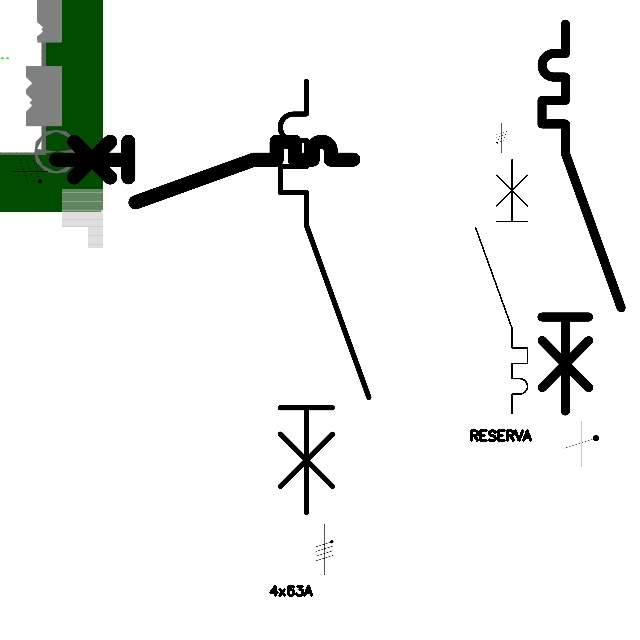interruptor_termomagnetico: (269, 70, 380, 524), (532, 14, 631, 420), (48, 134, 360, 210), (469, 153, 534, 420)
